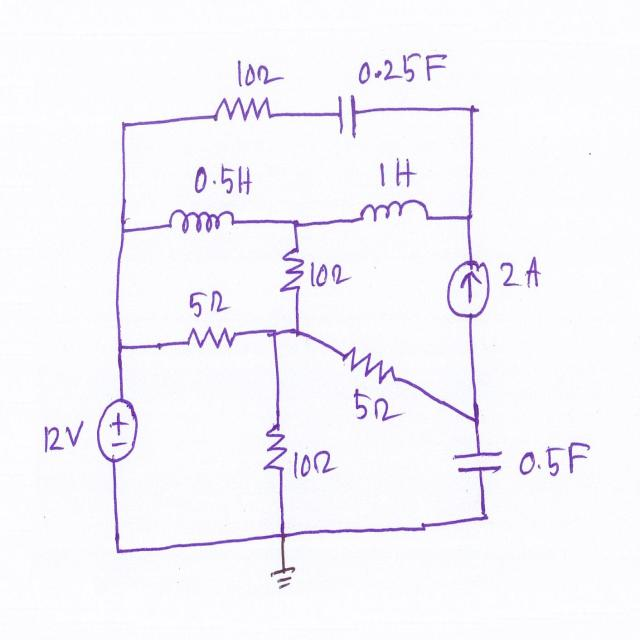capacitor: (449, 444, 508, 480), (332, 81, 361, 149)
current_source: (448, 252, 493, 324)
ground: (267, 556, 302, 602)
inductor: (352, 192, 436, 239), (166, 197, 239, 251)
resistor: (337, 334, 399, 387), (214, 87, 274, 137), (177, 321, 247, 358), (276, 237, 310, 307), (260, 413, 292, 487)
voltage_source: (93, 392, 141, 465)
